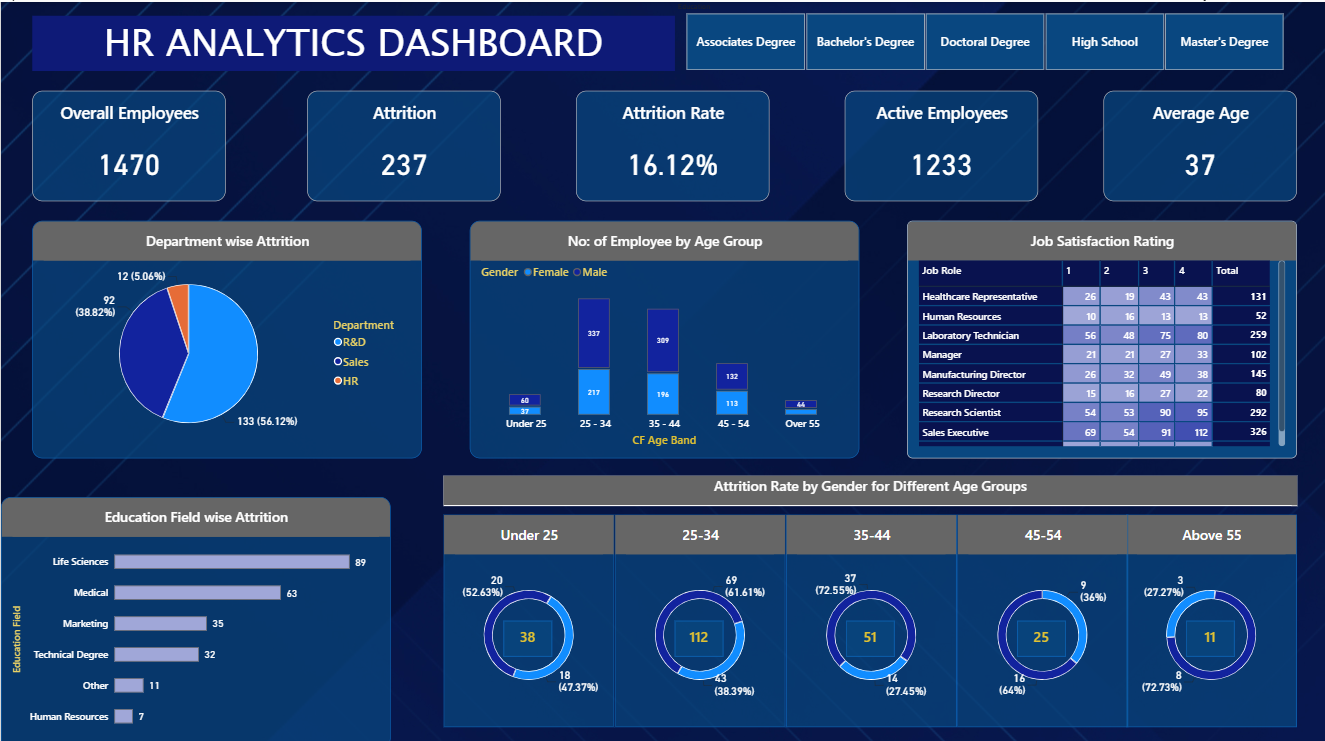

Layout of this report page (visuals, bound fields, positions):
{"tool":"powerbi","page":{"name":"page 1","canvas":[1920,1080],"ordinal":0},"visuals":[{"type":"card","title":"Overall Employees","fields":{"Values":["Sum(HR data.Employee Count)"]},"box":[46,128,280,160],"z":0},{"type":"card","title":"Attrition","fields":{"Values":["Sum(HR data.Attrirtion Count)"]},"box":[444,128,280,160],"z":1000},{"type":"card","title":"Attrition Rate","fields":{"Values":["HR data.Attirtion_Rate"]},"box":[832,128,280,160],"z":2000},{"type":"card","title":"Active Employees","fields":{"Values":["HR data.active_employees"]},"box":[1222,128,280,160],"z":3000},{"type":"card","title":"Average Age","fields":{"Values":["Avg(HR data.Age)"]},"box":[1596,128,280,160],"z":4000},{"type":"pieChart","title":"Department wise Attrition","fields":{"Category":["HR data.Department"],"Y":["Sum(HR data.Attrirtion Count)"]},"box":[46,316,564,344],"z":5000},{"type":"columnChart","title":"No: of Employee by Age Group","fields":{"Category":["HR data.CF_age band"],"Series":["HR data.Gender"],"Y":["Sum(HR data.Employee Count)"]},"box":[678,316,564,344],"z":5001},{"type":"pivotTable","title":"Job Satisfaction Rating","fields":{"Columns":["HR data.Job Satisfaction"],"Rows":["HR data.Job Role"],"Values":["Sum(HR data.Employee Count)"]},"box":[1312,316,564,343.8],"z":5002},{"type":"barChart","title":"Education Field wise Attrition ","fields":{"Category":["HR data.Education Field"],"Y":["Sum(HR data.Attrirtion Count)"]},"box":[0,716.6,564,364],"z":5003},{"type":"donutChart","title":"Under 25","fields":{"Category":["HR data.Gender"],"Series":["HR data.CF_age band"],"Y":["Sum(HR data.Attrirtion Count)"]},"box":[640,742,247,308],"z":5004},{"type":"textbox","title":"Attrition Rate by Gender for Different Age Groups","box":[640,686,1236,44],"z":5005},{"type":"donutChart","title":"25-34","fields":{"Category":["HR data.Gender"],"Series":["HR data.CF_age band"],"Y":["Sum(HR data.Attrirtion Count)"]},"box":[888,742,247,308],"z":5006},{"type":"donutChart","title":"Above 55","fields":{"Category":["HR data.Gender"],"Series":["HR data.CF_age band"],"Y":["Sum(HR data.Attrirtion Count)"]},"box":[1628,742,247,308],"z":5007},{"type":"donutChart","title":"35-44","fields":{"Category":["HR data.Gender"],"Series":["HR data.CF_age band"],"Y":["Sum(HR data.Attrirtion Count)"]},"box":[1136,742,247,308],"z":5008},{"type":"donutChart","title":"45-54","fields":{"Category":["HR data.Gender"],"Series":["HR data.CF_age band"],"Y":["Sum(HR data.Attrirtion Count)"]},"box":[1384,742,247,308],"z":5009},{"type":"card","fields":{"Values":["Sum(HR data.Attrirtion Count)"]},"box":[728,896,70,52],"z":5010},{"type":"card","fields":{"Values":["Sum(HR data.Attrirtion Count)"]},"box":[976,896,70,52],"z":5011},{"type":"card","fields":{"Values":["Sum(HR data.Attrirtion Count)"]},"box":[1224,896,70,52],"z":5012},{"type":"card","fields":{"Values":["Sum(HR data.Attrirtion Count)"]},"box":[1472,896,70,52],"z":5013},{"type":"card","fields":{"Values":["Sum(HR data.Attrirtion Count)"]},"box":[1716,896,70,52],"z":5014},{"type":"textbox","box":[100,100,300,300],"z":5015},{"type":"textbox","title":"HR ANALYTICS DASHBOARD","box":[46,20,930,80],"z":5016},{"type":"slicer","fields":{"Values":["HR data.Education"]},"box":[972,0,904,100],"z":5017}]}

Visuals, with their boxes in screenshot pixels (x1, y1, x2, y2), scaled from the page's 1920x1080 canvas onto the 1325x741 screenshot:
"Overall Employees" card: {"left": 32, "top": 88, "right": 225, "bottom": 198}
"Attrition" card: {"left": 306, "top": 88, "right": 500, "bottom": 198}
"Attrition Rate" card: {"left": 574, "top": 88, "right": 767, "bottom": 198}
"Active Employees" card: {"left": 843, "top": 88, "right": 1037, "bottom": 198}
"Average Age" card: {"left": 1101, "top": 88, "right": 1295, "bottom": 198}
"Department wise Attrition" pieChart: {"left": 32, "top": 217, "right": 421, "bottom": 453}
"No: of Employee by Age Group" columnChart: {"left": 468, "top": 217, "right": 857, "bottom": 453}
"Job Satisfaction Rating" pivotTable: {"left": 905, "top": 217, "right": 1295, "bottom": 453}
"Education Field wise Attrition " barChart: {"left": 0, "top": 492, "right": 389, "bottom": 740}
"Under 25" donutChart: {"left": 442, "top": 509, "right": 612, "bottom": 720}
"Attrition Rate by Gender for Different Age Groups" textbox: {"left": 442, "top": 471, "right": 1295, "bottom": 501}
"25-34" donutChart: {"left": 613, "top": 509, "right": 783, "bottom": 720}
"Above 55" donutChart: {"left": 1123, "top": 509, "right": 1294, "bottom": 720}
"35-44" donutChart: {"left": 784, "top": 509, "right": 954, "bottom": 720}
"45-54" donutChart: {"left": 955, "top": 509, "right": 1126, "bottom": 720}
card - Sum(HR data.Attrirtion Count): {"left": 502, "top": 615, "right": 551, "bottom": 650}
card - Sum(HR data.Attrirtion Count): {"left": 674, "top": 615, "right": 722, "bottom": 650}
card - Sum(HR data.Attrirtion Count): {"left": 845, "top": 615, "right": 893, "bottom": 650}
card - Sum(HR data.Attrirtion Count): {"left": 1016, "top": 615, "right": 1064, "bottom": 650}
card - Sum(HR data.Attrirtion Count): {"left": 1184, "top": 615, "right": 1233, "bottom": 650}
textbox: {"left": 69, "top": 69, "right": 276, "bottom": 274}
"HR ANALYTICS DASHBOARD" textbox: {"left": 32, "top": 14, "right": 674, "bottom": 69}
slicer - HR data.Education: {"left": 671, "top": 0, "right": 1295, "bottom": 69}
